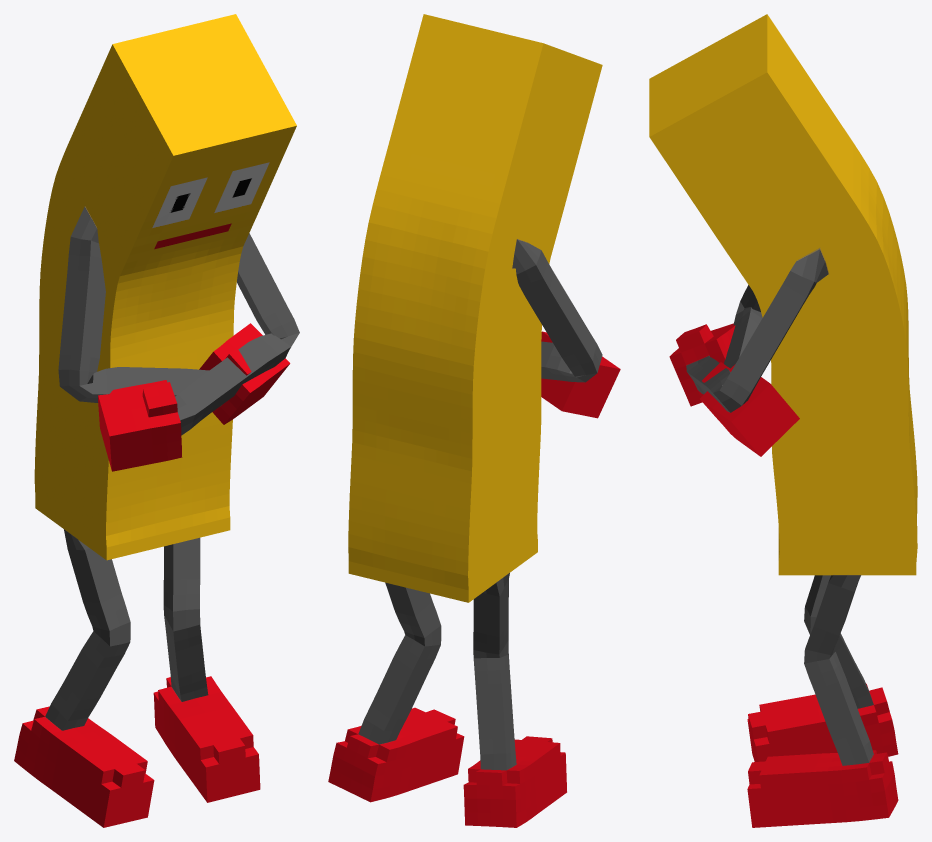
File: potatokun_freezing.fbx
3 views of the same model, side by side, from view 1: azimuth 30°, elevation 25°; view 2: azimuth 150°, elevation 25°; view 3: azimuth 270°, elevation 25° (orthographic). The views are drawn at different scales.
Visible parts, largest first — view 1: PLY PK 60cm; view 2: PLY PK 60cm; view 3: PLY PK 60cm.
Part boxes in pixels (x1,y1,x2,y2): PLY PK 60cm: (14, 14, 299, 827); PLY PK 60cm: (328, 14, 620, 827); PLY PK 60cm: (649, 14, 917, 827).
Size of the model in its own units: 17.97 by 60.16 by 19.44.
Materials: 1 (1 with a texture image).
